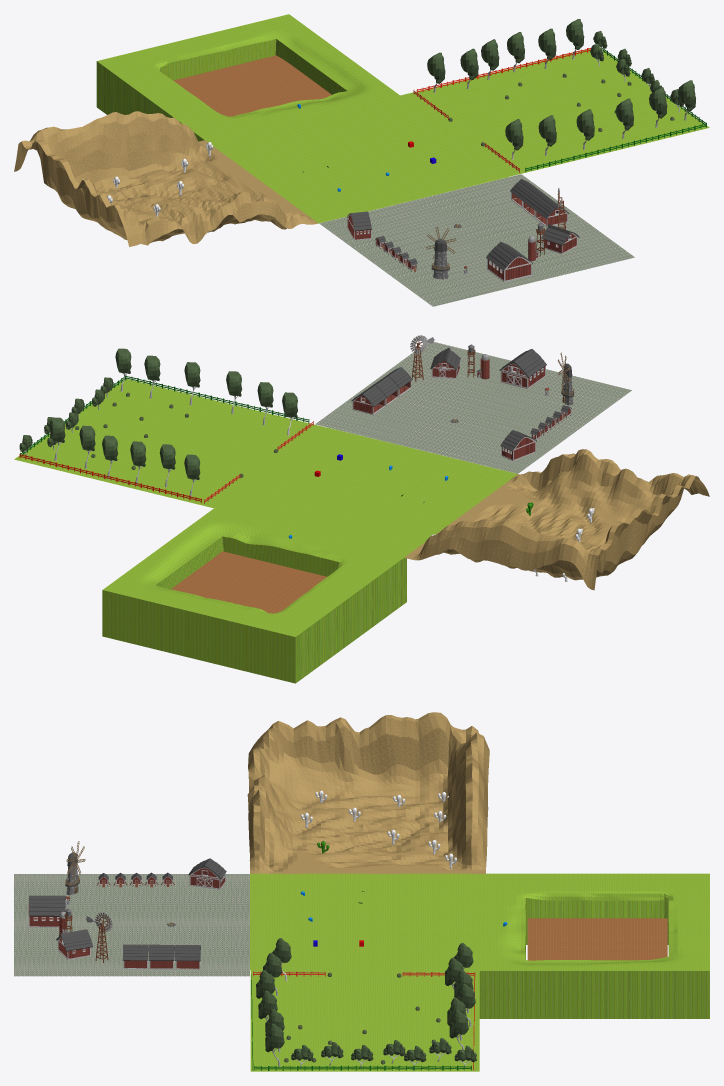
The picture shows the model from 3 angles, top to bottom: view 1: azimuth 30°, elevation 25°; view 2: azimuth 150°, elevation 25°; view 3: azimuth 270°, elevation 25°; orthographic projection. The views are drawn at different scales.
Visible parts, largest first — view 1: dessert, ground, forest, village, lakeGround, Buildings, lake, Fence.001, Fence; view 2: lakeGround, ground, dessert, forest, village, Buildings, lake, Fence, Fence.001; view 3: dessert, lakeGround, ground, village, forest, Buildings, lake, Fence.002.
Boxes of the visible parts, x1=… form: dessert: x1=14, y1=111, x2=318, y2=246; ground: x1=205, y1=93, x2=508, y2=223; forest: x1=398, y1=47, x2=709, y2=176; village: x1=319, y1=174, x2=634, y2=306; lakeGround: x1=96, y1=14, x2=399, y2=141; Buildings: x1=347, y1=179, x2=579, y2=282; lake: x1=173, y1=55, x2=331, y2=116; Fence.001: x1=525, y1=123, x2=706, y2=172; Fence: x1=416, y1=48, x2=591, y2=92; lakeGround: x1=102, y1=508, x2=406, y2=683; ground: x1=213, y1=427, x2=517, y2=557; dessert: x1=404, y1=449, x2=709, y2=590; forest: x1=14, y1=378, x2=326, y2=508; village: x1=315, y1=342, x2=631, y2=473; Buildings: x1=351, y1=335, x2=574, y2=460; lake: x1=171, y1=551, x2=326, y2=613; Fence: x1=19, y1=453, x2=201, y2=502; Fence.001: x1=125, y1=375, x2=309, y2=423; dessert: x1=247, y1=712, x2=489, y2=873; lakeGround: x1=479, y1=873, x2=709, y2=1018; ground: x1=250, y1=873, x2=485, y2=969; village: x1=14, y1=874, x2=249, y2=976; forest: x1=250, y1=970, x2=479, y2=1071; Buildings: x1=28, y1=841, x2=226, y2=969; lake: x1=527, y1=918, x2=667, y2=960; Fence.002: x1=254, y1=1065, x2=471, y2=1070.
Bounding box in the file's own units: 303 × 54 × 302.
Materials: 253 (7 with a texture image).
